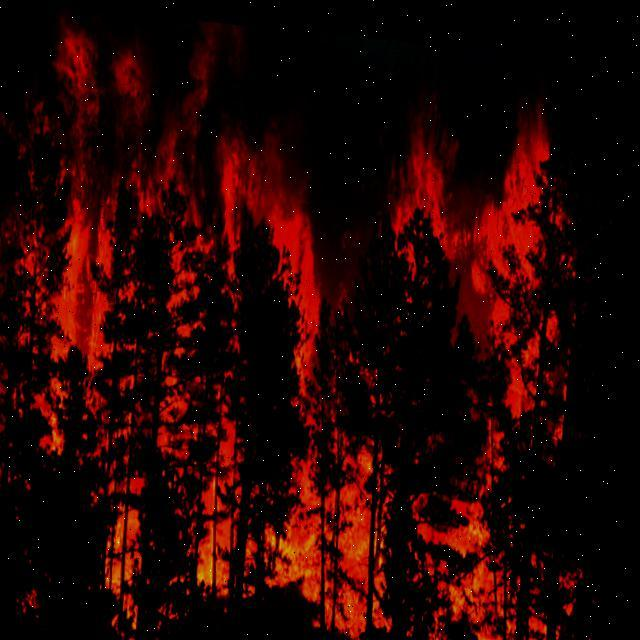Fire: (0, 59, 599, 639)
